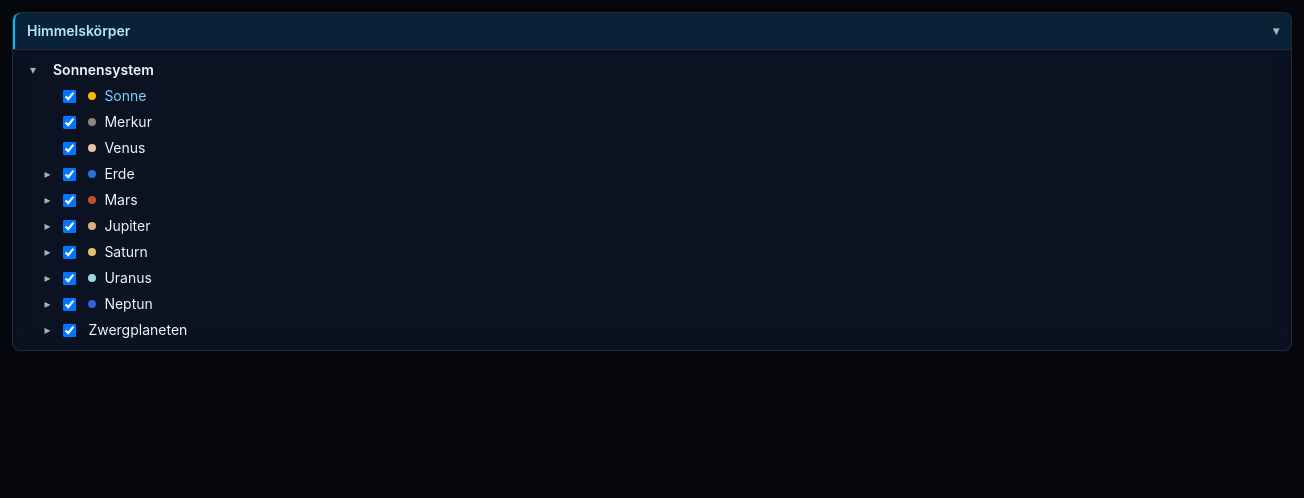
Scenario: BodyTree mit Zwergplaneten › klappt den Zweig über seinen Namen auf
Click the button "Zwergplaneten": (138, 330) top-left (84, 318), bottom-right (191, 342)
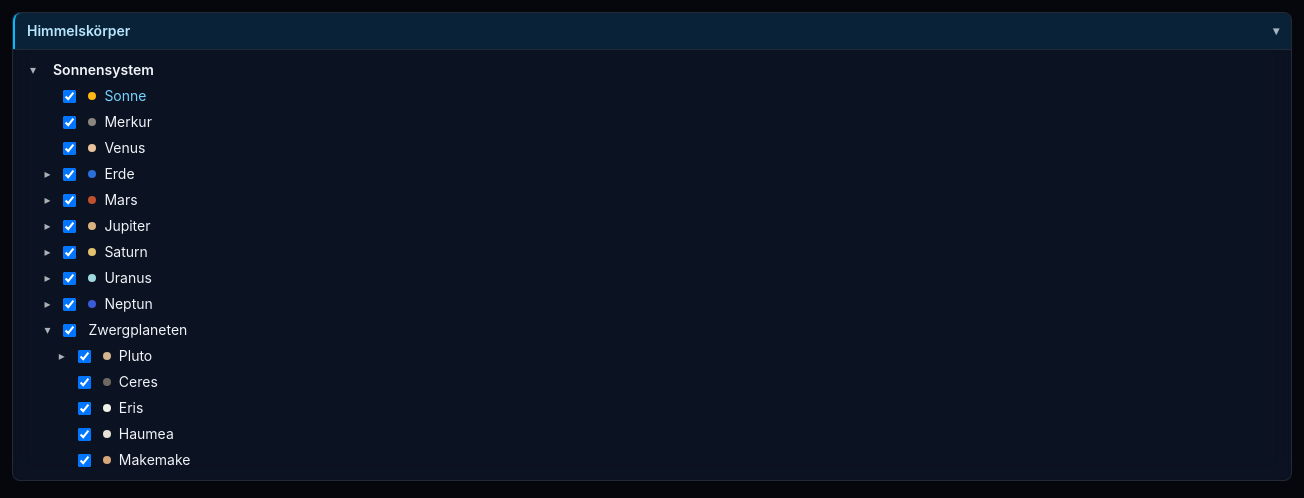
Expected: the text "Pluto" is shown, top-left (119, 346), bottom-right (152, 366)
Expected: the text "Makemake" is shown, top-left (119, 450), bottom-right (190, 470)
